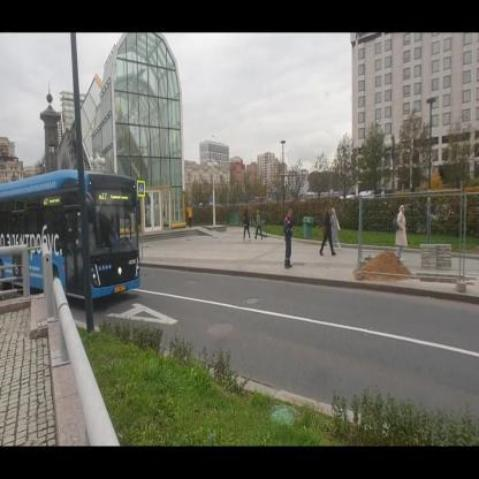bus: (1, 170, 139, 303)
